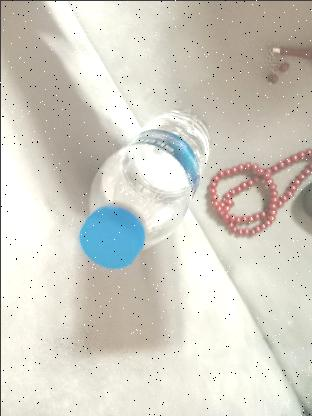Plastic Bottle: (79, 108, 211, 270)
